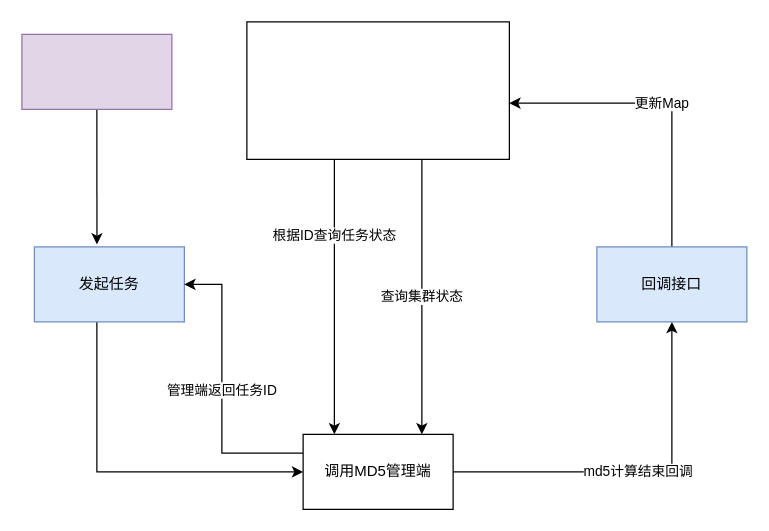
Some shapes in this 769 by 531 pixel diagram are drawn without their labels. Each missing label, with the centre of its shape:
"postman" belongs at pixel 96 71.
"查询任务 map+thread" belongs at pixel 377 90.
